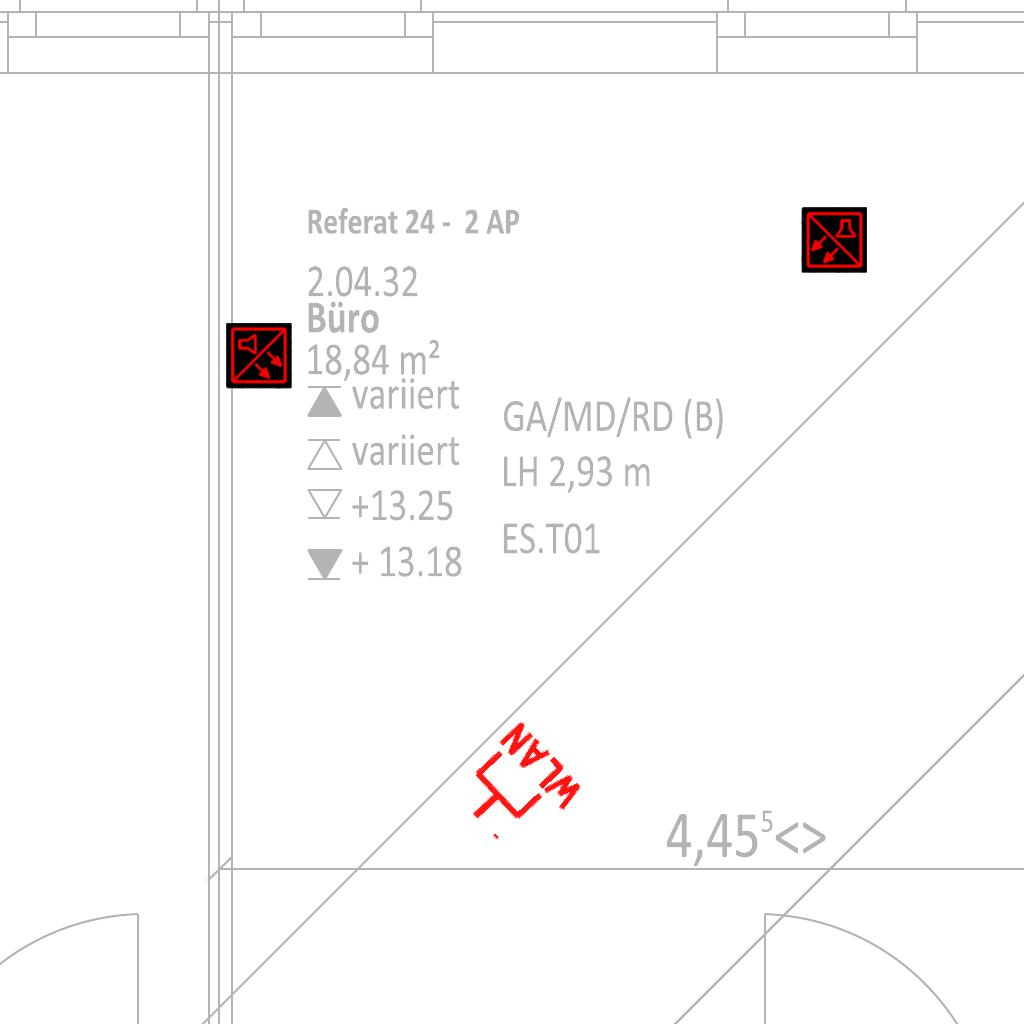OKW_Multisensormelder_(Kombination_optischer_Rauch-Kahlenmonoxid_Waerme-Melder): (801, 207, 867, 273), (226, 323, 292, 389)
WLAN: (442, 716, 591, 864)
